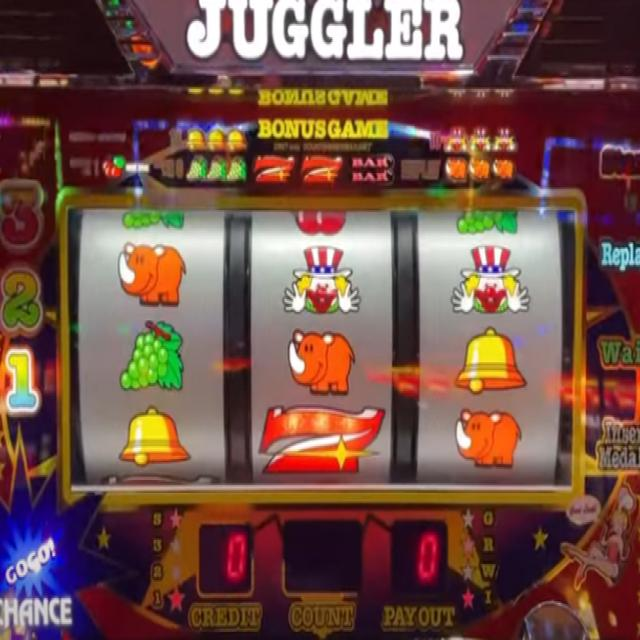bar: (349, 153, 396, 185)
bell: (456, 325, 528, 394), (118, 406, 192, 466), (228, 128, 247, 153), (186, 124, 203, 151), (208, 129, 226, 153)
cherry: (290, 205, 351, 236), (100, 151, 125, 181)
clown: (450, 243, 531, 318), (283, 243, 362, 316), (492, 123, 517, 155), (444, 124, 468, 153), (471, 126, 491, 154)
elephant: (68, 206, 576, 492), (286, 328, 357, 397), (118, 239, 187, 308), (454, 408, 524, 471)
grape: (120, 317, 186, 393), (456, 206, 523, 235), (117, 208, 186, 230), (185, 156, 208, 184), (226, 158, 246, 182), (209, 156, 225, 184)
z: (257, 403, 385, 476), (300, 151, 344, 187), (252, 151, 294, 185)
